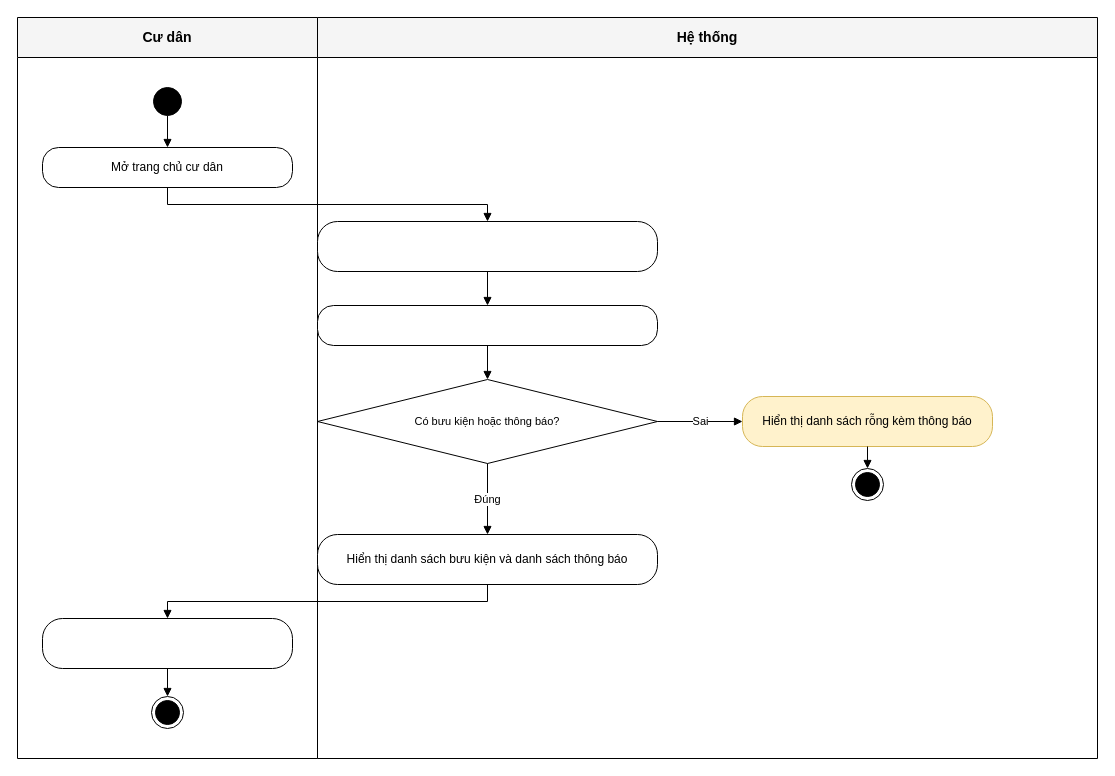
This 1115x776 diagram has some shape labels left out. The centre of each missing label's shape, as x and y in pixels:
"Chọn bưu kiện để lấy mã hoặc xem vị trí tủ" goes at (x=167, y=643).
"Truy vấn tối đa 50 thông báo gần nhất của cư dân" goes at (x=487, y=325).
"Xác định căn hộ đang cư trú, truy vấn v_buu_kien_cua_cu_dan (mới nhất trước)" goes at (x=487, y=246).
